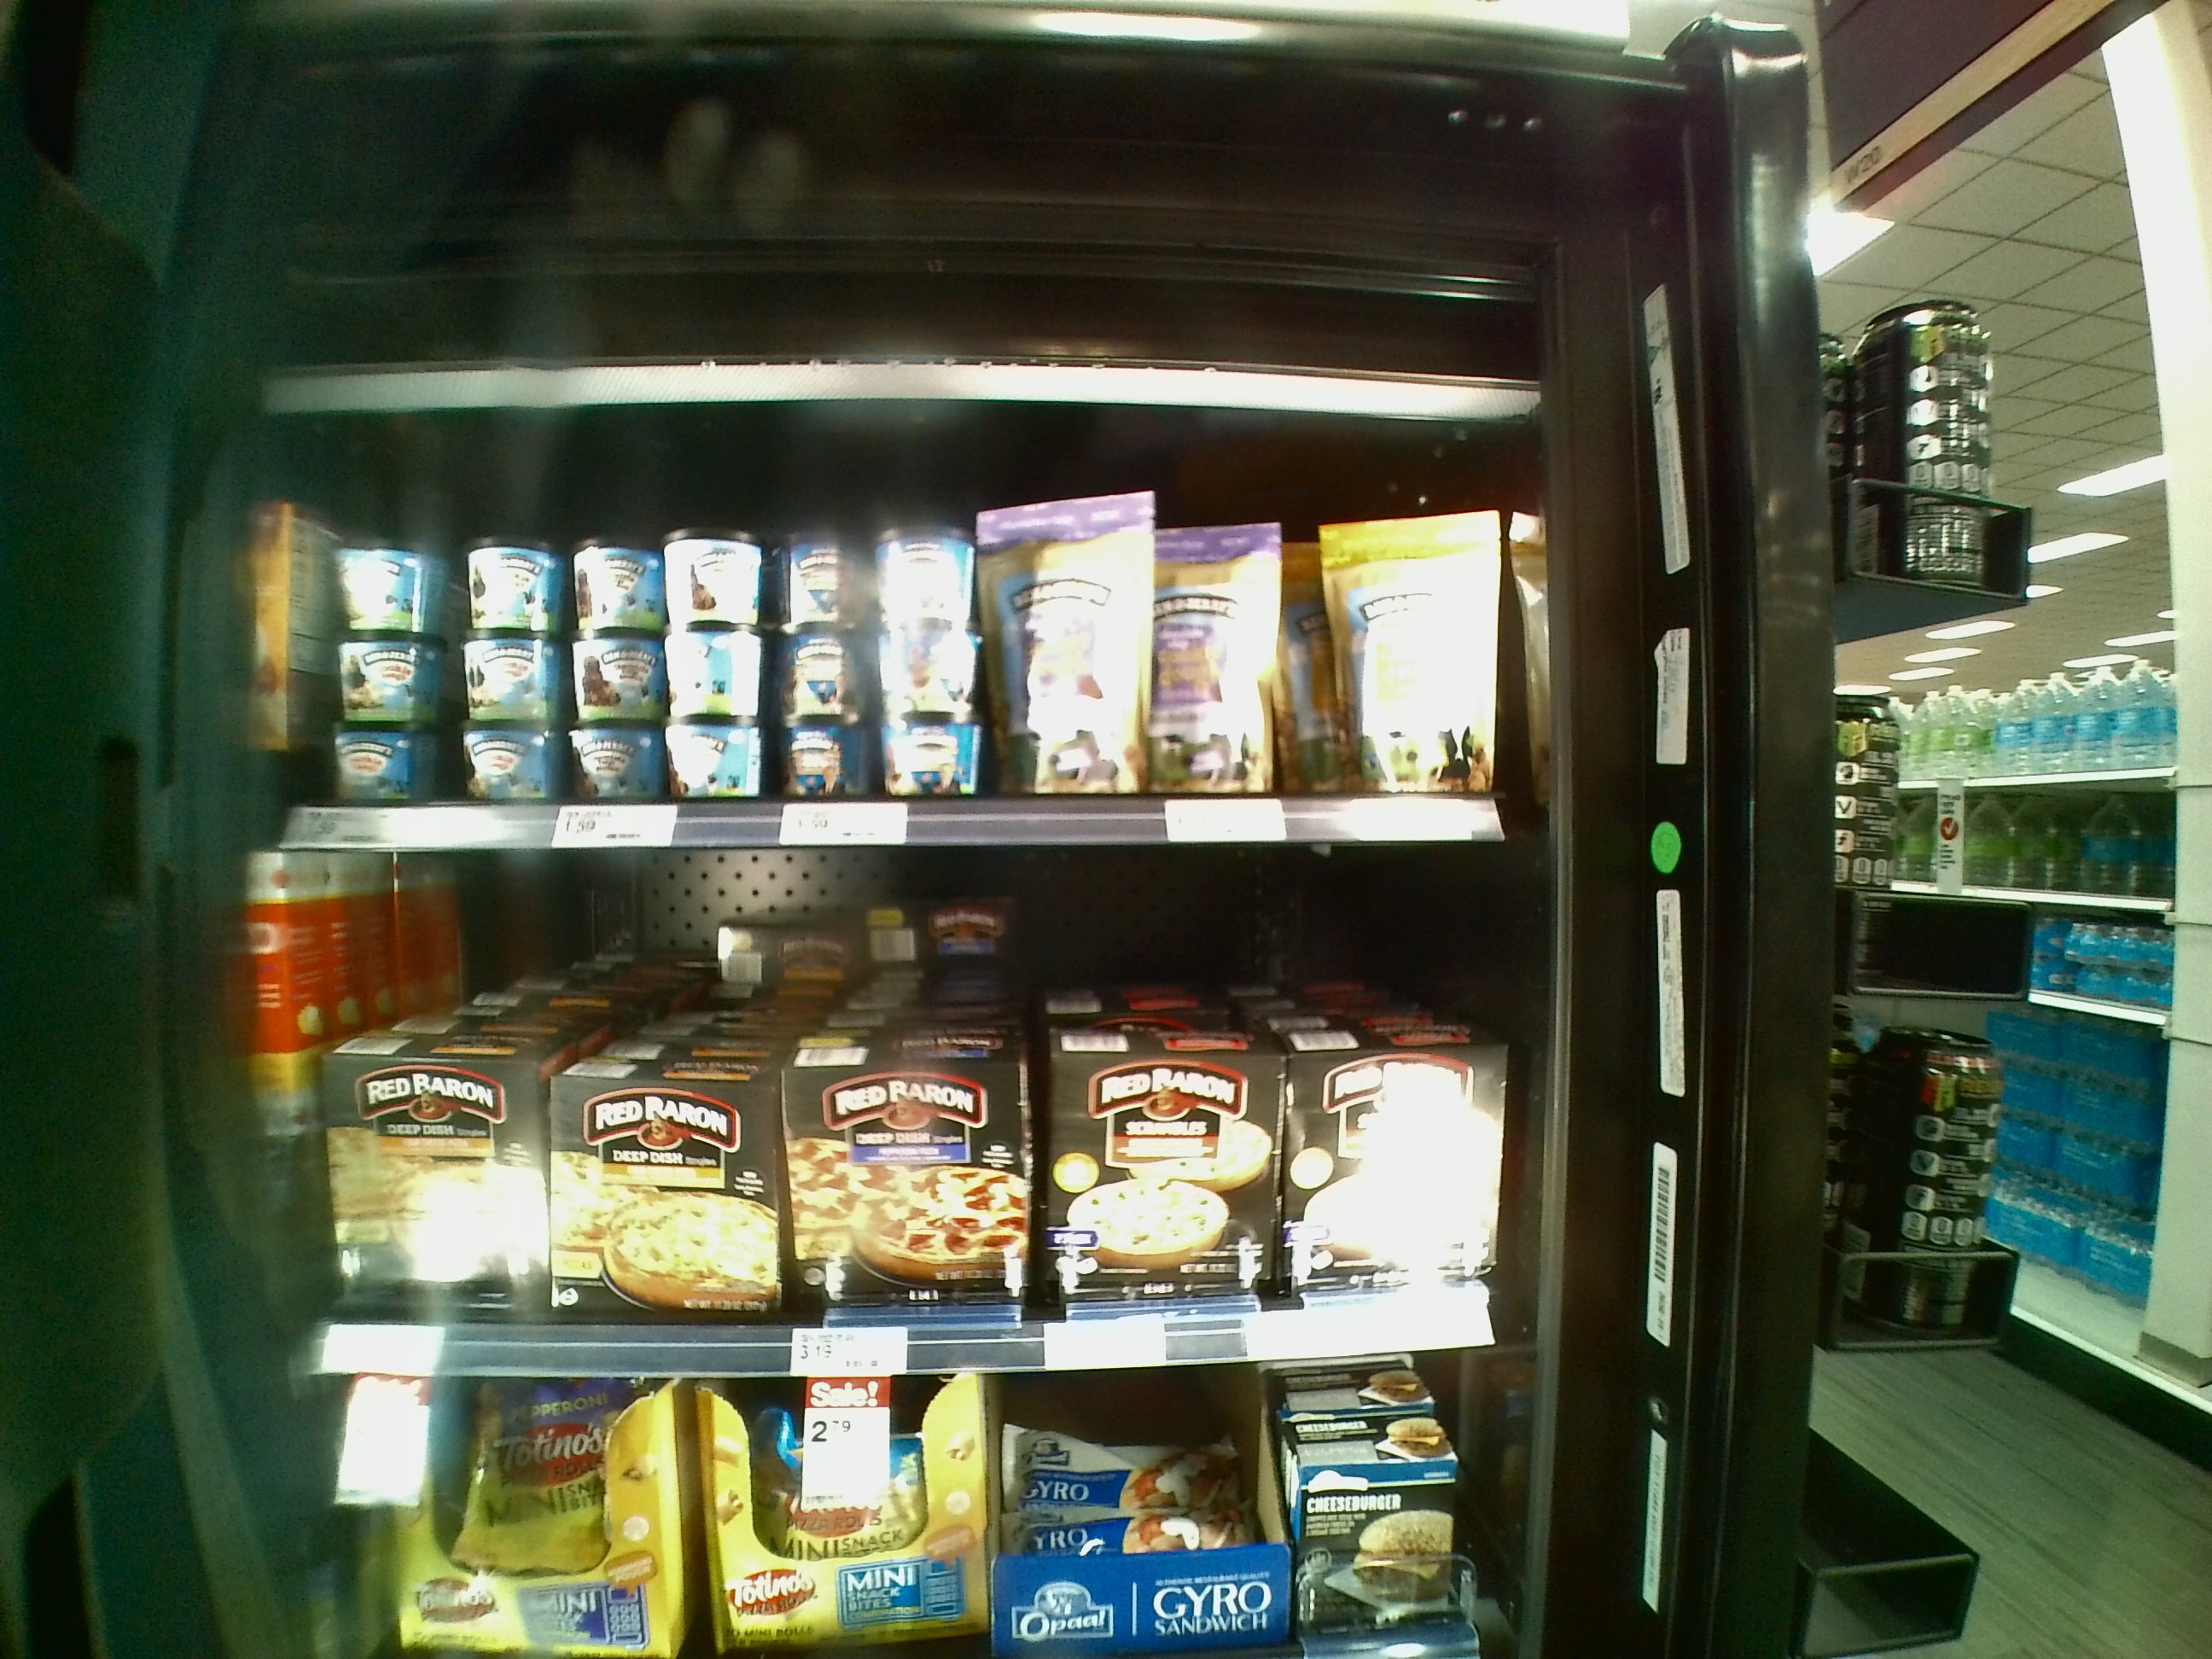shelf: (282, 842, 1521, 1382), (273, 430, 1503, 840), (327, 1364, 1521, 1659)
